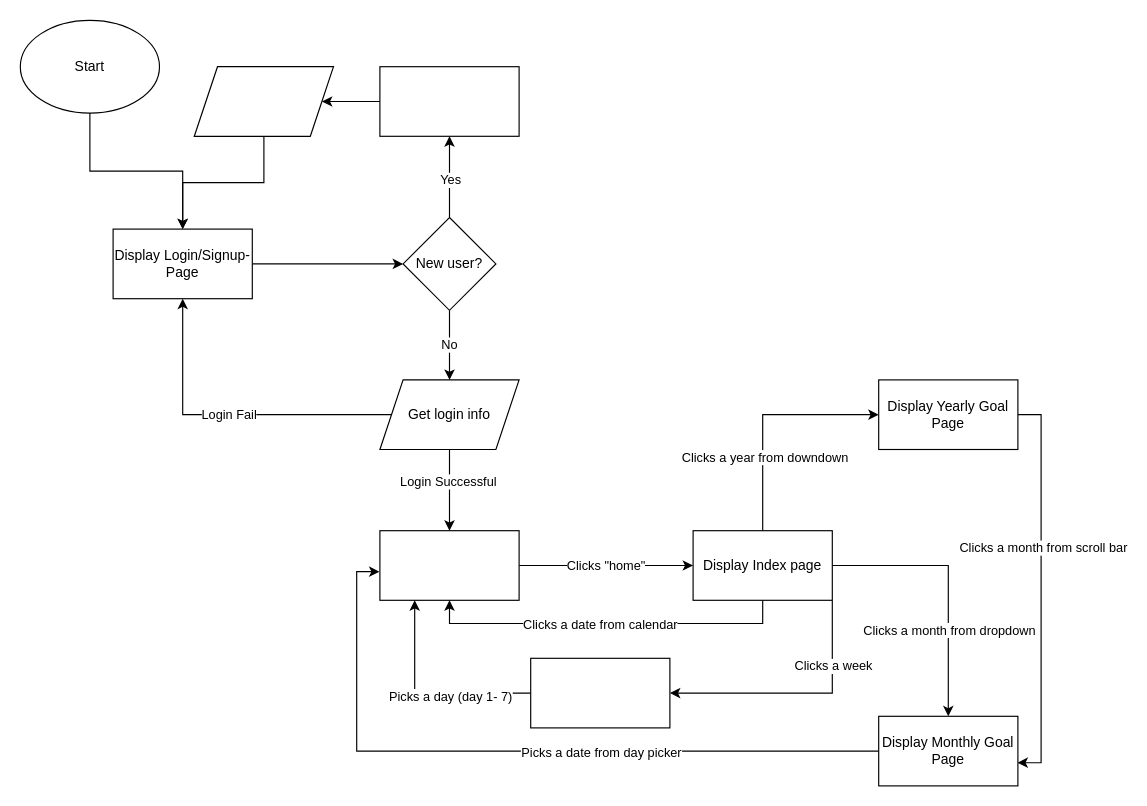
This 1147x806 diagram has some shape labels left out. The centre of each missing label's shape, as x and y in pixels:
Display "registration": (x=449, y=101)
Display Today/Daily overview: (x=449, y=565)
Display Weekly Goal Page: (x=600, y=692)
Get creation data?: (x=263, y=101)
